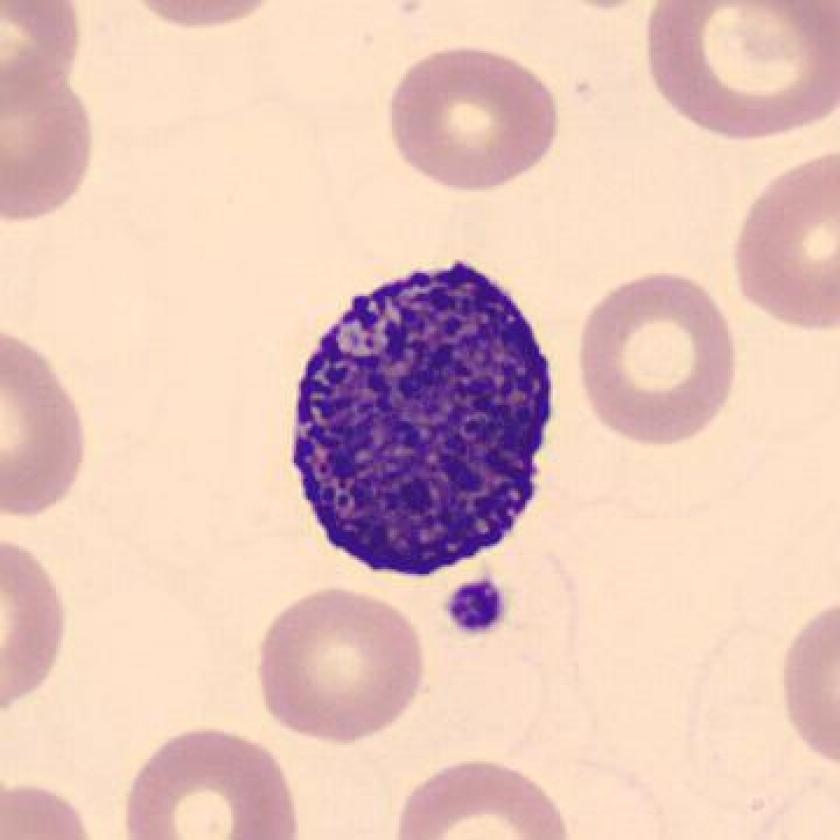basophil: (288, 246, 568, 589)
